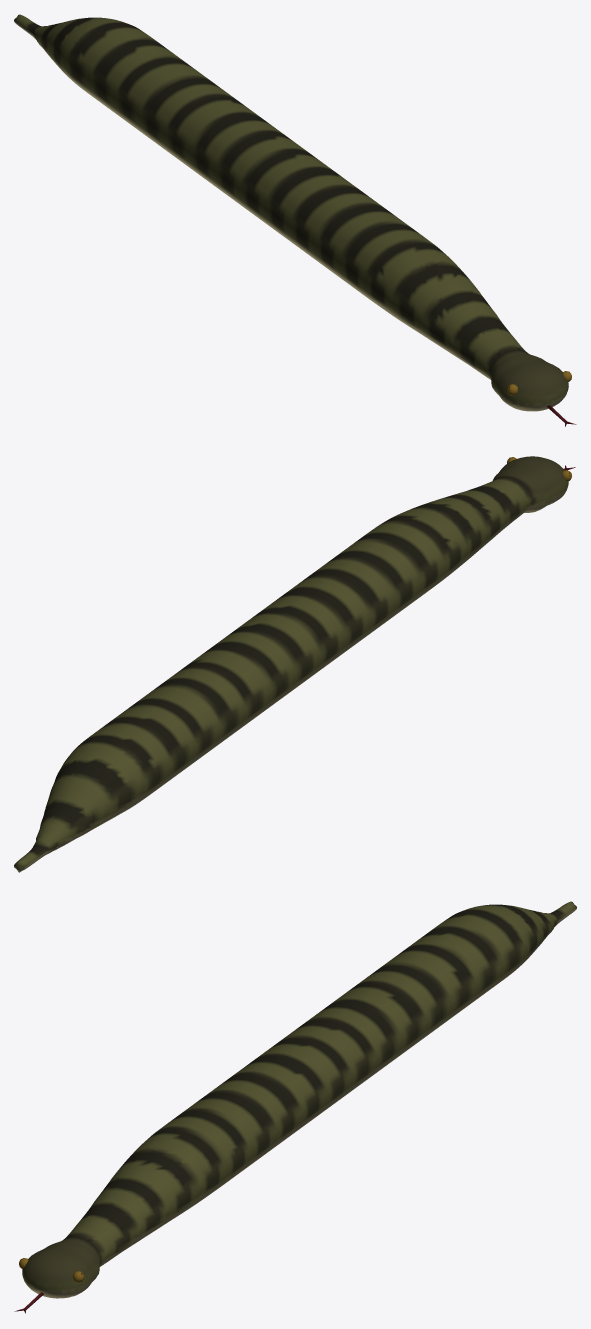
The model's file is TitanoboaCerrejonensis.fbx.
The picture shows the model from 3 angles, top to bottom: view 1: azimuth 30°, elevation 25°; view 2: azimuth 150°, elevation 25°; view 3: azimuth 330°, elevation 25°; orthographic projection.
Visible parts, largest first — view 1: TitanoboaCerrejonensis; view 2: TitanoboaCerrejonensis; view 3: TitanoboaCerrejonensis.
Part boxes in pixels (x1,y1,x2,y2): TitanoboaCerrejonensis: [14, 14, 576, 426]; TitanoboaCerrejonensis: [14, 456, 575, 872]; TitanoboaCerrejonensis: [14, 901, 576, 1313].
Size of the model in its own units: 0.2076 by 0.1795 by 2.49.
